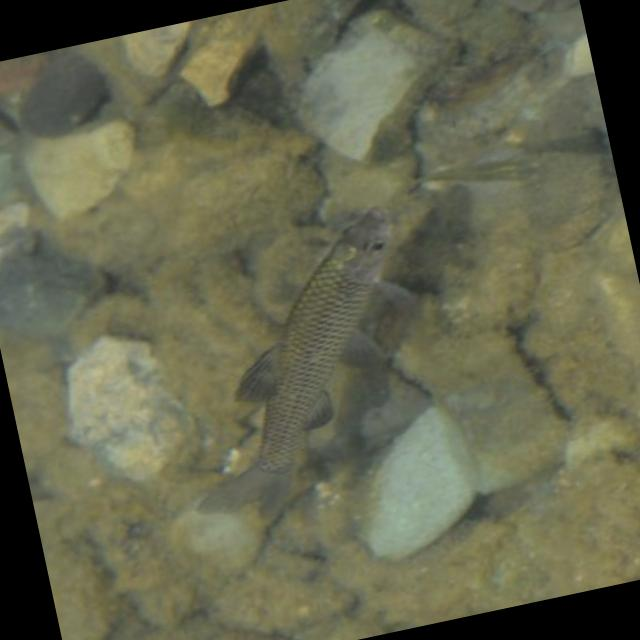Cakil Baligi: (136, 196, 459, 530)
